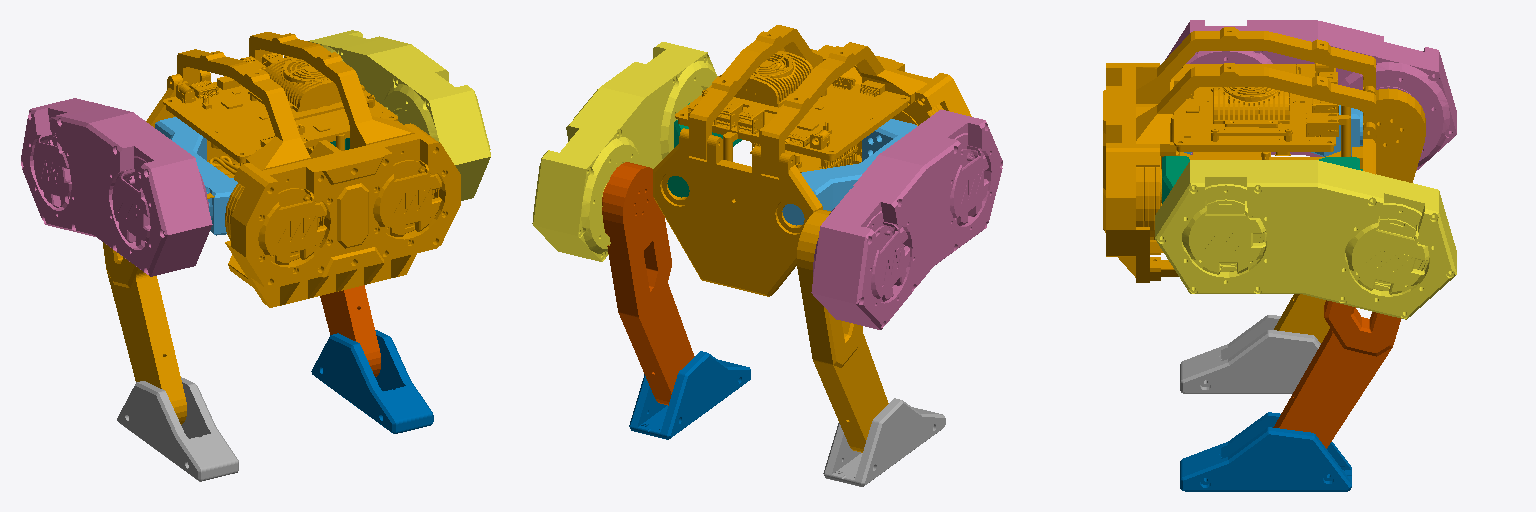
--- Render facts (derived) ---
3 views of the same robot in one strip: view 1: azimuth 30°, elevation 25°; view 2: azimuth 150°, elevation 25°; view 3: azimuth 270°, elevation 25° (orthographic).
Model bernard with 9 links and 8 joints (8 revolute), rooted at body, posed every joint at zero.
Visible links, largest first — view 1: body, r_arm, l_arm, l_foot, r_foot, r_forearm, l_forearm, r_hip; view 2: body, r_arm, l_arm, l_forearm, r_forearm, r_foot, l_foot, r_hip, l_hip; view 3: l_arm, body, r_arm, l_foot, l_forearm, r_foot, r_forearm, l_hip, r_hip.
Boxes of the visible links, x1,y1,x2,y2 form: body: (146,32,460,307); r_arm: (21,98,212,276); l_arm: (308,30,490,200); l_foot: (311,330,433,433); r_foot: (117,377,238,481); r_forearm: (103,242,186,424); l_forearm: (320,285,380,376); r_hip: (155,117,237,235); body: (653,25,971,296); r_arm: (811,109,1002,329); l_arm: (532,42,717,261); l_forearm: (602,162,694,405); r_forearm: (796,210,888,452); r_foot: (823,398,945,486); l_foot: (629,351,750,439); r_hip: (782,119,916,225); l_hip: (667,103,741,197); l_arm: (1155,160,1456,319); body: (1103,27,1375,282); r_arm: (1165,20,1456,170); l_foot: (1180,412,1351,491); l_forearm: (1273,300,1400,448); r_foot: (1180,315,1320,393); r_forearm: (1274,88,1425,342); l_hip: (1162,156,1362,203); r_hip: (1184,105,1362,156).
Size in the robot's own frame: 0.2865 by 0.2591 by 0.3098 metres.
126 mesh visuals loaded from 107 distinct referenced files (106 OBJ); not drawn: 1 (reference not matched to a file when rendering).

The robot description file, URDF, robot "bernard":
<?xml version="1.0" encoding="UTF-8"?>
<robot name="bernard">
  <joint name="l_arm_joint" type="revolute">
    <origin xyz="0.052 -0. -0.0466032" rpy="-3.1415927 -1.5707963 0. "/>
    <parent link="l_hip"/>
    <child link="l_arm"/>
    <axis xyz="0. 0. 1."/>
    <limit lower="-1.5707963" upper="1.5707963" effort="0." velocity="0."/>
  </joint>
  <joint name="l_foot_joint" type="revolute">
    <origin xyz="0.02 0.19 -0.0065" rpy="3.1415927 0. 1.8325957"/>
    <parent link="l_forearm"/>
    <child link="l_foot"/>
    <axis xyz="0. 0. 1."/>
    <limit lower="-1.2217305" upper="1.2217305" effort="0." velocity="0."/>
  </joint>
  <joint name="l_hip_joint" type="revolute">
    <origin xyz="0.0530836 -0.0463685 0.0004409" rpy="1.5707964 0. 0. "/>
    <parent link="body"/>
    <child link="l_hip"/>
    <axis xyz="0. 0. 1."/>
    <limit lower="-0.4363323" upper="0.5235988" effort="0." velocity="0."/>
  </joint>
  <joint name="l_knee_joint" type="revolute">
    <origin xyz="-0.119007 0.0154056 -0. " rpy="-0. 0. -0.2617994"/>
    <parent link="l_arm"/>
    <child link="l_forearm"/>
    <axis xyz="0. 0. 1."/>
    <limit lower="-0.8726646" upper="1.7453293" effort="0." velocity="0."/>
  </joint>
  <joint name="r_arm_joint" type="revolute">
    <origin xyz="0.052 -0. 0.0466032" rpy="-3.1415927 1.5707964 0. "/>
    <parent link="r_hip"/>
    <child link="r_arm"/>
    <axis xyz="0. 0. 1."/>
    <limit lower="-1.5707963" upper="1.5707963" effort="0." velocity="0."/>
  </joint>
  <joint name="r_foot_joint" type="revolute">
    <origin xyz="0.02 0.19 0.0065" rpy="3.1415927 0. 1.8325957"/>
    <parent link="r_forearm"/>
    <child link="r_foot"/>
    <axis xyz="0. 0. 1."/>
    <limit lower="-1.2217305" upper="1.2217305" effort="0." velocity="0."/>
  </joint>
  <joint name="r_hip_joint" type="revolute">
    <origin xyz="-0.0469164 -0.0463544 0.0004409" rpy="1.5707964 -0. -3.1415927"/>
    <parent link="body"/>
    <child link="r_hip"/>
    <axis xyz="0. 0. 1."/>
    <limit lower="-0.4363323" upper="0.5235988" effort="0." velocity="0."/>
  </joint>
  <joint name="r_knee_joint" type="revolute">
    <origin xyz="-0.119007 0.0154056 0. " rpy="-0. 0. -0.2617994"/>
    <parent link="r_arm"/>
    <child link="r_forearm"/>
    <axis xyz="0. 0. 1."/>
    <limit lower="-0.8726646" upper="1.7453293" effort="0." velocity="0."/>
  </joint>
  <link name="body">
    <inertial>
      <origin xyz="0.00478695 -0.00867622 -0.00853418 m" rpy="0. 0. 0."/>
      <mass value="1.94701706"/>
      <inertia ixx="0.00886295" ixy="-0.00009625" ixz="-0.00021054" iyy="0.00554807" iyz="0.00037748" izz="0.00908693"/>
    </inertial>
    <collision>
      <origin xyz="0.00056 0.0104835 -0.011461 " rpy="0. 0. 0."/>
      <geometry>
        <box size="0.1160978 0.2033129 0.13758 "/>
      </geometry>
    </collision>
    <visual>
      <origin xyz="0.0530836 0.1076355 -0.001559 " rpy="0. -0. -3.1415927"/>
      <geometry>
        <mesh filename="meshes/bearing32x7/bearing_20x32x7mm__0x32x7mm_Bearing_Cover__0x32x7mm_Bearing_Cover.obj" scale="1. 1. 1."/>
      </geometry>
    </visual>
    <visual>
      <origin xyz="0.0530836 0.1076355 -0.001559 " rpy="0. -0. -3.1415927"/>
      <geometry>
        <mesh filename="meshes/bearing32x7/bearing_20x32x7mm__0x32x7mm_Bearing_Outer__0x32x7mm_Bearing_Outer.obj" scale="1. 1. 1."/>
      </geometry>
    </visual>
    <visual>
      <origin xyz="0.0530836 0.1076355 -0.001559 " rpy="0. -0. -3.1415927"/>
      <geometry>
        <mesh filename="meshes/bearing32x7/bearing_20x32x7mm__0x32x7mm_Bearing_Inner__0x32x7mm_Bearing_Inner.obj" scale="1. 1. 1."/>
      </geometry>
    </visual>
    <visual>
      <origin xyz="0.0399871 -0.0653645 -0.0036212" rpy="3.1415927 -0. -3.1415927"/>
      <geometry>
        <mesh filename="meshes/printed_body_parts_Top_Frame_L_Top_Frame_L.obj" scale="1. 1. 1."/>
      </geometry>
    </visual>
    <visual>
      <origin xyz="-0.0469164 -0.0753645 -0.001559 " rpy="1.5707964 0. -1.5707964"/>
      <geometry>
        <mesh filename="meshes/printed_body_parts_Hip_Cover_Hip_Cover.obj" scale="1. 1. 1."/>
      </geometry>
    </visual>
    <visual>
      <origin xyz="0.0030921 0.0213355 -0.0035671" rpy="1.5707964 0. 0. "/>
      <geometry>
        <mesh filename="meshes/printed_body_parts_Frame_Core_Frame_Core.obj" scale="1. 1. 1."/>
      </geometry>
    </visual>
    <visual>
      <origin xyz="0.0030751 0.0226436 -0.0662086" rpy="3.1415927 -0. -3.1415927"/>
      <geometry>
        <mesh filename="meshes/printed_body_parts_Body_Bottom_Frame_Body_Bottom_Frame.obj" scale="1. 1. 1."/>
      </geometry>
    </visual>
    <visual>
      <origin xyz="0.0030836 -0.0653645 -0.0075599" rpy="3.1415927 -0. -3.1415927"/>
      <geometry>
        <mesh filename="meshes/printed_body_parts_Core_Frame_Holder_Core_Frame_Holder.obj" scale="1. 1. 1."/>
      </geometry>
    </visual>
    <visual>
      <origin xyz="-0.0469164 0.1076355 -0.001559 " rpy="0. -0. -3.1415927"/>
      <geometry>
        <mesh filename="meshes/bearing32x7/bearing_20x32x7mm_01__0x32x7mm_Bearing_Cover__0x32x7mm_Bearing_Cover.obj" scale="1. 1. 1."/>
      </geometry>
    </visual>
    <visual>
      <origin xyz="-0.0469164 0.1076355 -0.001559 " rpy="0. -0. -3.1415927"/>
      <geometry>
        <mesh filename="meshes/bearing32x7/bearing_20x32x7mm_01__0x32x7mm_Bearing_Outer__0x32x7mm_Bearing_Outer.obj" scale="1. 1. 1."/>
      </geometry>
    </visual>
    <visual>
      <origin xyz="-0.0469164 0.1076355 -0.001559 " rpy="0. -0. -3.1415927"/>
      <geometry>
        <mesh filename="meshes/bearing32x7/bearing_20x32x7mm_01__0x32x7mm_Bearing_Inner__0x32x7mm_Bearing_Inner.obj" scale="1. 1. 1."/>
      </geometry>
    </visual>
    <visual>
      <origin xyz="0.0030921 0.1002355 -0.0011171" rpy="1.5707964 0. -1.5707964"/>
      <geometry>
        <mesh filename="meshes/printed_body_parts_Body_Back_Body_Back.obj" scale="1. 1. 1."/>
      </geometry>
    </visual>
    <visual>
      <origin xyz="0.0030836 -0.0553645 -0.0597501" rpy="1.5707964 -0. -3.1415927"/>
      <geometry>
        <mesh filename="meshes/printed_body_parts_Body_Bottom_Body_Bottom.obj" scale="1. 1. 1."/>
      </geometry>
    </visual>
    <visual>
      <origin xyz="-0.0149248 -0.0368453 -0.0035671" rpy="1.5707964 0. -1.5707964"/>
      <geometry>
        <mesh filename="meshes/printed_body_parts_FPGA_Holder_FPGA_Holder.obj" scale="1. 1. 1."/>
      </geometry>
    </visual>
    <visual>
      <origin xyz="-0.0338198 -0.0653645 -0.0036212" rpy="0. 0. 0.0000001"/>
      <geometry>
        <mesh filename="meshes/printed_body_parts_Top_Frame_R_Top_Frame_R.obj" scale="1. 1. 1."/>
      </geometry>
    </visual>
    <visual>
      <origin xyz="0.0030336 0.0376355 -0.0445591" rpy="3.1415927 0. -1.5707964"/>
      <geometry>
        <mesh filename="meshes/tattu_4500/tattu_4500_mah_XT90_XT90.obj" scale="1. 1. 1."/>
      </geometry>
    </visual>
    <visual>
      <origin xyz="0.0030336 0.0376355 -0.0445591" rpy="3.1415927 0. -1.5707964"/>
      <geometry>
        <mesh filename="meshes/tattu_4500/tattu_4500_mah_XT90pos_cable_XT90pos_cable.obj" scale="1. 1. 1."/>
      </geometry>
    </visual>
    <visual>
      <origin xyz="0.0030336 0.0376355 -0.0445591" rpy="3.1415927 0. -1.5707964"/>
      <geometry>
        <mesh filename="meshes/tattu_4500/tattu_4500_mah_JST_XHP_4_cable4_JST_XHP_4_cable4.obj" scale="1. 1. 1."/>
      </geometry>
    </visual>
    <visual>
      <origin xyz="0.0030336 0.0376355 -0.0445591" rpy="3.1415927 0. -1.5707964"/>
      <geometry>
        <mesh filename="meshes/tattu_4500/tattu_4500_mah_JST_XHP_4_cable5_JST_XHP_4_cable5.obj" scale="1. 1. 1."/>
      </geometry>
    </visual>
    <visual>
      <origin xyz="0.0030336 0.0376355 -0.0445591" rpy="3.1415927 0. -1.5707964"/>
      <geometry>
        <mesh filename="meshes/tattu_4500/tattu_4500_mah_JST_XHP_4_cable3_JST_XHP_4_cable3.obj" scale="1. 1. 1."/>
      </geometry>
    </visual>
    <visual>
      <origin xyz="0.0030336 0.0376355 -0.0445591" rpy="3.1415927 0. -1.5707964"/>
      <geometry>
        <mesh filename="meshes/tattu_4500/tattu_4500_mah_JST_XHP_4_JST_XHP_4.obj" scale="1. 1. 1."/>
      </geometry>
    </visual>
    <visual>
      <origin xyz="0.0030336 0.0376355 -0.0445591" rpy="3.1415927 0. -1.5707964"/>
      <geometry>
        <mesh filename="meshes/tattu_4500/tattu_4500_mah_JST_XHP_4_cable1_JST_XHP_4_cable1.obj" scale="1. 1. 1."/>
      </geometry>
    </visual>
    <visual>
      <origin xyz="0.0030336 0.0376355 -0.0445591" rpy="3.1415927 0. -1.5707964"/>
      <geometry>
        <mesh filename="meshes/tattu_4500/tattu_4500_mah_XT90neg_cable_XT90neg_cable.obj" scale="1. 1. 1."/>
      </geometry>
    </visual>
    <visual>
      <origin xyz="0.0030336 0.0376355 -0.0445591" rpy="3.1415927 0. -1.5707964"/>
      <geometry>
        <mesh filename="meshes/tattu_4500/tattu_4500_mah_JST_XHP_4_cable2_JST_XHP_4_cable2.obj" scale="1. 1. 1."/>
      </geometry>
    </visual>
    <visual>
      <origin xyz="0.0030336 0.0376355 -0.0445591" rpy="3.1415927 0. -1.5707964"/>
      <geometry>
        <mesh filename="meshes/tattu_4500/tattu_4500_mah_Battery_Battery.obj" scale="1. 1. 1."/>
      </geometry>
    </visual>
    <visual>
      <origin xyz="0.0140406 -0.0302645 0.0039037" rpy="0. 0. 0.0000001"/>
      <geometry>
        <mesh filename="meshes/nucleo_l476rg/nucleo_l476rg_ESWITCH_TL3301SPF160QGBLK_Varsay_ESWITCH_TL3301SPF160QGBLK_Varsay.obj" scale="1. 1. 1."/>
      </geometry>
    </visual>
    <visual>
      <origin xyz="0.0140406 -0.0302645 0.0039037" rpy="0. 0. 0.0000001"/>
      <geometry>
        <mesh filename="meshes/nucleo_l476rg/nucleo_l476rg_ESWITCH_TL3301SPF160QGBLU_Varsay_ESWITCH_TL3301SPF160QGBLU_Varsay.obj" scale="1. 1. 1."/>
      </geometry>
    </visual>
    <visual>
      <origin xyz="0.0140406 -0.0302645 0.0039037" rpy="0. 0. 0.0000001"/>
      <geometry>
        <mesh filename="meshes/nucleo_l476rg/nucleo_l476rg_MOLEX_0678038020_for_NUCLEO_MOLEX_0678038020_for_NUCLEO.obj" scale="1. 1. 1."/>
      </geometry>
    </visual>
    <visual>
      <origin xyz="0.0140406 -0.0302645 0.0039037" rpy="0. 0. 0.0000001"/>
      <geometry>
        <mesh filename="meshes/nucleo_l476rg/nucleo_l476rg_SAMTEC_SSQ_106_01_G_S_for_NUCLEO_Varsay_SAMTEC_SSQ_106_01_G_S_for_NUCLEO_Varsay.obj" scale="1. 1. 1."/>
      </geometry>
    </visual>
    <visual>
      <origin xyz="0.0140406 -0.0302645 0.0039037" rpy="0. 0. 0.0000001"/>
      <geometry>
        <mesh filename="meshes/nucleo_l476rg/nucleo_l476rg_SAMTEC_TSW_119_07_T_D_for_NUCLEO_Varsay_1_SAMTEC_TSW_119_07_T_D_for_NUCLEO_Varsay_1.obj" scale="1. 1. 1."/>
      </geometry>
    </visual>
    <visual>
      <origin xyz="0.0140406 -0.0302645 0.0039037" rpy="0. 0. 0.0000001"/>
      <geometry>
        <mesh filename="meshes/nucleo_l476rg/nucleo_l476rg_SAMTEC_TSW_119_07_T_D_for_NUCLEO_Varsay_SAMTEC_TSW_119_07_T_D_for_NUCLEO_Varsay.obj" scale="1. 1. 1."/>
      </geometry>
    </visual>
    <visual>
      <origin xyz="0.0140406 -0.0302645 0.0039037" rpy="0. 0. 0.0000001"/>
      <geometry>
        <mesh filename="meshes/nucleo_l476rg/nucleo_l476rg_ABRACON_ABL_8000MHZ_B2_Varsay_ABRACON_ABL_8000MHZ_B2_Varsay.obj" scale="1. 1. 1."/>
      </geometry>
    </visual>
    <visual>
      <origin xyz="0.0140406 -0.0302645 0.0039037" rpy="0. 0. 0.0000001"/>
      <geometry>
        <mesh filename="meshes/nucleo_l476rg/nucleo_l476rg_SAMTEC_SSQ_108_01_G_S_for_NUCLEO_Varsay_SAMTEC_SSQ_108_01_G_S_for_NUCLEO_Varsay.obj" scale="1. 1. 1."/>
      </geometry>
    </visual>
    <visual>
      <origin xyz="0.0140406 -0.0302645 0.0039037" rpy="0. 0. 0.0000001"/>
      <geometry>
        <mesh filename="meshes/nucleo_l476rg/nucleo_l476rg_SAMTEC_SSQ_110_01_G_S_for_NUCLEO_Varsay_SAMTEC_SSQ_110_01_G_S_for_NUCLEO_Varsay.obj" scale="1. 1. 1."/>
      </geometry>
    </visual>
    <visual>
      <origin xyz="0.0140406 -0.0302645 0.0039037" rpy="0. 0. 0.0000001"/>
      <geometry>
        <mesh filename="meshes/ESWITCH_TL3301SPF160QGBLU_Varsay_01_ESWITCH_TL3301SPF160QGBLU_Varsay.obj" scale="1. 1. 1."/>
      </geometry>
    </visual>
    <visual>
      <origin xyz="0.0140406 -0.0302645 0.0039037" rpy="0. 0. 0.0000001"/>
      <geometry>
        <mesh filename="meshes/nucleo_l476rg/nucleo_l476rg_SAMTEC_SSQ_108_01_G_S_for_NUCLEO_Varsay_1_SAMTEC_SSQ_108_01_G_S_for_NUCLEO_Varsay_1.obj" scale="1. 1. 1."/>
      </geometry>
    </visual>
    <visual>
      <origin xyz="0.0140406 -0.0302645 0.0039037" rpy="0. 0. 0.0000001"/>
      <geometry>
        <mesh filename="meshes/nucleo_l476rg/nucleo_l476rg_NUCLEO_F411RE_PCB_Varsay_NUCLEO_F411RE_PCB_Varsay.obj" scale="1. 1. 1."/>
      </geometry>
    </visual>
    <visual>
      <origin xyz="0.0140406 -0.0302645 0.0039037" rpy="0. 0. 0.0000001"/>
      <geometry>
        <mesh filename="meshes/kria_kv260/MOLEX_0678038020_for_NUCLEO_01_MOLEX_0678038020_for_NUCLEO.obj" scale="1. 1. 1."/>
      </geometry>
    </visual>
    <visual>
      <origin xyz="0.0140406 -0.0302645 0.0039037" rpy="0. 0. 0.0000001"/>
      <geometry>
        <mesh filename="meshes/ESWITCH_TL3301SPF160QGBLK_Varsay_01_ESWITCH_TL3301SPF160QGBLK_Varsay.obj" scale="1. 1. 1."/>
      </geometry>
    </visual>
    <visual>
      <origin xyz="-0.0619263 -0.0378455 0.0480186" rpy="1.5707964 0. 0. "/>
      <geometry>
        <mesh filename="meshes/kria_kv260/kria_kv_260_SOM_BOARD_OUTLINE_SOM_BOARD_OUTLINE.obj" scale="1. 1. 1."/>
      </geometry>
    </visual>
    <visual>
      <origin xyz="-0.0619263 -0.0378455 0.0480186" rpy="1.5707964 0. 0. "/>
      <geometry>
        <mesh filename="meshes/kria_kv260/kria_kv_260_PC104_SN_XX_XX_7_SOLID1_2_PC104_SN_XX_XX_7_SOLID1_2.obj" scale="1. 1. 1."/>
      </geometry>
    </visual>
    <visual>
      <origin xyz="-0.0619263 -0.0378455 0.0480186" rpy="1.5707964 0. 0. "/>
      <geometry>
        <mesh filename="meshes/kria_kv260/kria_kv_260_CHIP_18536_1_CHIP_18536_1.obj" scale="1. 1. 1."/>
      </geometry>
    </visual>
    <visual>
      <origin xyz="-0.0619263 -0.0378455 0.0480186" rpy="1.5707964 0. 0. "/>
      <geometry>
        <mesh filename="meshes/kria_kv260/kria_kv_260_GSB311231HR_4_1_GSB311231HR_4_1.obj" scale="1. 1. 1."/>
      </geometry>
    </visual>
    <visual>
      <origin xyz="-0.0619263 -0.0378455 0.0480186" rpy="1.5707964 0. 0. "/>
      <geometry>
        <mesh filename="meshes/kria_kv260/kria_kv_260_JSOM_T_XX_XX_XX_1_SOLID1_1_JSOM_T_XX_XX_XX_1_SOLID1_1.obj" scale="1. 1. 1."/>
      </geometry>
    </visual>
    <visual>
      <origin xyz="-0.0619263 -0.0378455 0.0480186" rpy="1.5707964 0. 0. "/>
      <geometry>
        <mesh filename="meshes/kria_kv260/kria_kv_260_PC104_SN_XX_XX_7_SOLID1_PC104_SN_XX_XX_7_SOLID1.obj" scale="1. 1. 1."/>
      </geometry>
    </visual>
    <visual>
      <origin xyz="-0.0619263 -0.0378455 0.0480186" rpy="1.5707964 0. 0. "/>
      <geometry>
        <mesh filename="meshes/kria_kv260/kria_kv_260_HDR_F2X6_2_5_2_1_1_1_HDR_F2X6_2_5_2_1_1_1.obj" scale="1. 1. 1."/>
      </geometry>
    </visual>
    <visual>
      <origin xyz="-0.0619263 -0.0378455 0.0480186" rpy="1.5707964 0. 0. "/>
      <geometry>
        <mesh filename="meshes/kria_kv260/kria_kv_260_HDR_F2X6_2_4_2_1_1_1_HDR_F2X6_2_4_2_1_1_1.obj" scale="1. 1. 1."/>
      </geometry>
    </visual>
    <visual>
      <origin xyz="-0.0619263 -0.0378455 0.0480186" rpy="1.5707964 0. 0. "/>
      <geometry>
        <mesh filename="meshes/kria_kv260/kria_kv_260_GSB311231HR_1_GSB311231HR_1.obj" scale="1. 1. 1."/>
      </geometry>
    </visual>
    <visual>
      <origin xyz="-0.0619263 -0.0378455 0.0480186" rpy="1.5707964 0. 0. "/>
      <geometry>
        <mesh filename="meshes/kria_kv260/kria_kv_260__010_IMPELLER__010_IMPELLER.obj" scale="1. 1. 1."/>
      </geometry>
    </visual>
    <visual>
      <origin xyz="-0.0619263 -0.0378455 0.0480186" rpy="1.5707964 0. 0. "/>
      <geometry>
        <mesh filename="meshes/kria_kv260/kria_kv_260_GSB311231HR_4_GSB311231HR_4.obj" scale="1. 1. 1."/>
      </geometry>
    </visual>
    <visual>
      <origin xyz="-0.0619263 -0.0378455 0.0480186" rpy="1.5707964 0. 0. "/>
      <geometry>
        <mesh filename="meshes/kria_kv260/kria_kv_260_JSOM_T_XX_XX_XX_1_SOLID1_2_JSOM_T_XX_XX_XX_1_SOLID1_2.obj" scale="1. 1. 1."/>
      </geometry>
    </visual>
    <visual>
      <origin xyz="-0.0619263 -0.0378455 0.0480186" rpy="1.5707964 0. 0. "/>
      <geometry>
        <mesh filename="meshes/kria_kv260/kria_kv_260_HDR_F2X6_2_7_2_1_1_1_HDR_F2X6_2_7_2_1_1_1.obj" scale="1. 1. 1."/>
      </geometry>
    </visual>
    <visual>
      <origin xyz="-0.0619263 -0.0378455 0.0480186" rpy="1.5707964 0. 0. "/>
      <geometry>
        <mesh filename="meshes/kria_kv260/kria_kv_260_HDR_F2X6_2_12_2_1_1_1_HDR_F2X6_2_12_2_1_1_1.obj" scale="1. 1. 1."/>
      </geometry>
    </visual>
    <visual>
      <origin xyz="-0.0619263 -0.0378455 0.0480186" rpy="1.5707964 0. 0. "/>
      <geometry>
        <mesh filename="meshes/kria_kv260/kria_kv_260_JSOM_B_XX_XX_XX_1_SOLID1_1_JSOM_B_XX_XX_XX_1_SOLID1_1.obj" scale="1. 1. 1."/>
      </geometry>
    </visual>
    <visual>
      <origin xyz="-0.0619263 -0.0378455 0.0480186" rpy="1.5707964 0. 0. "/>
      <geometry>
        <mesh filename="meshes/kria_kv260/kria_kv_260_HDR_F2X6_2_9_2_1_1_1_HDR_F2X6_2_9_2_1_1_1.obj" scale="1. 1. 1."/>
      </geometry>
    </visual>
    <visual>
      <origin xyz="-0.0619263 -0.0378455 0.0480186" rpy="1.5707964 0. 0. "/>
      <geometry>
        <mesh filename="meshes/kria_kv260/kria_kv_260_CONN_STW_SS_53000_001_CONN_STW_SS_53000_001.obj" scale="1. 1. 1."/>
      </geometry>
    </visual>
    <visual>
      <origin xyz="-0.0619263 -0.0378455 0.0480186" rpy="1.5707964 0. 0. "/>
      <geometry>
        <mesh filename="meshes/kria_kv260/kria_kv_260_P1_P1.obj" scale="1. 1. 1."/>
      </geometry>
    </visual>
    <visual>
      <origin xyz="-0.0619263 -0.0378455 0.0480186" rpy="1.5707964 0. 0. "/>
      <geometry>
        <mesh filename="meshes/kria_kv260/kria_kv_260_CARRIER_BOARD_OUTLINE_CARRIER_BOARD_OUTLINE.obj" scale="1. 1. 1."/>
      </geometry>
    </visual>
    <visual>
      <origin xyz="-0.0619263 -0.0378455 0.0480186" rpy="1.5707964 0. 0. "/>
      <geometry>
        <mesh filename="meshes/kria_kv260/kria_kv_260_HDR_F2X6_2_2_2_1_1_1_HDR_F2X6_2_2_2_1_1_1.obj" scale="1. 1. 1."/>
      </geometry>
    </visual>
    <visual>
      <origin xyz="-0.0619263 -0.0378455 0.0480186" rpy="1.5707964 0. 0. "/>
      <geometry>
        <mesh filename="meshes/kria_kv260/kria_kv_260_JSOM_B_XX_XX_XX_1_SOLID1_2_JSOM_B_XX_XX_XX_1_SOLID1_2.obj" scale="1. 1. 1."/>
      </geometry>
    </visual>
    <visual>
      <origin xyz="-0.0619263 -0.0378455 0.0480186" rpy="1.5707964 0. 0. "/>
      <geometry>
        <mesh filename="meshes/kria_kv260/kria_kv_260_JSOM_T_XX_XX_XX_1_SOLID1_3_JSOM_T_XX_XX_XX_1_SOLID1_3.obj" scale="1. 1. 1."/>
      </geometry>
    </visual>
    <visual>
      <origin xyz="-0.0619263 -0.0378455 0.0480186" rpy="1.5707964 0. 0. "/>
      <geometry>
        <mesh filename="meshes/kria_kv260/kria_kv_260_HDR_F2X6_2_1_2_1_1_1_HDR_F2X6_2_1_2_1_1_1.obj" scale="1. 1. 1."/>
      </geometry>
    </visual>
    <visual>
      <origin xyz="-0.0619263 -0.0378455 0.0480186" rpy="1.5707964 0. 0. "/>
      <geometry>
        <mesh filename="meshes/kria_kv260/kria_kv_260_USER_LIBRARY_LQFP64_GRID_463338_USER_LIBRARY_LQFP64_GRID_463338.obj" scale="1. 1. 1."/>
      </geometry>
    </visual>
    <visual>
      <origin xyz="-0.0619263 -0.0378455 0.0480186" rpy="1.5707964 0. 0. "/>
      <geometry>
        <mesh filename="meshes/kria_kv260/kria_kv_260_JSOM_B_XX_XX_XX_1_SOLID1_3_JSOM_B_XX_XX_XX_1_SOLID1_3.obj" scale="1. 1. 1."/>
      </geometry>
    </visual>
    <visual>
      <origin xyz="-0.0619263 -0.0378455 0.0480186" rpy="1.5707964 0. 0. "/>
      <geometry>
        <mesh filename="meshes/kria_kv260/kria_kv_260_HDR_F2X6_2_10_2_1_1_1_HDR_F2X6_2_10_2_1_1_1.obj" scale="1. 1. 1."/>
      </geometry>
    </visual>
    <visual>
      <origin xyz="-0.0619263 -0.0378455 0.0480186" rpy="1.5707964 0. 0. "/>
      <geometry>
        <mesh filename="meshes/kria_kv260/kria_kv_260_HDR_F2X6_2_6_2_1_1_1_HDR_F2X6_2_6_2_1_1_1.obj" scale="1. 1. 1."/>
      </geometry>
    </visual>
    <visual>
      <origin xyz="-0.0619263 -0.0378455 0.0480186" rpy="1.5707964 0. 0. "/>
      <geometry>
        <mesh filename="meshes/kria_kv260/kria_kv_260_GSB311231HR_1_1_GSB311231HR_1_1.obj" scale="1. 1. 1."/>
      </geometry>
    </visual>
    <visual>
      <origin xyz="-0.0619263 -0.0378455 0.0480186" rpy="1.5707964 0. 0. "/>
      <geometry>
        <mesh filename="meshes/kria_kv260/kria_kv_260__72720001_7__72720001_7.obj" scale="1. 1. 1."/>
      </geometry>
    </visual>
    <visual>
      <origin xyz="-0.0619263 -0.0378455 0.0480186" rpy="1.5707964 0. 0. "/>
      <geometry>
        <mesh filename="meshes/kria_kv260/kria_kv_260_SOIC127P600X175_8_SOIC127P600X175_8.obj" scale="1. 1. 1."/>
      </geometry>
    </visual>
    <visual>
      <origin xyz="-0.0619263 -0.0378455 0.0480186" rpy="1.5707964 0. 0. "/>
      <geometry>
        <mesh filename="meshes/kria_kv260/kria_kv_260_CHIP_18536_CHIP_18536.obj" scale="1. 1. 1."/>
      </geometry>
    </visual>
    <visual>
      <origin xyz="-0.0619263 -0.0378455 0.0480186" rpy="1.5707964 0. 0. "/>
      <geometry>
        <mesh filename="meshes/kria_kv260/kria_kv_260__78321420_1__78321420_1.obj" scale="1. 1. 1."/>
      </geometry>
    </visual>
    <visual>
      <origin xyz="-0.0619263 -0.0378455 0.0480186" rpy="1.5707964 0. 0. "/>
      <geometry>
        <mesh filename="meshes/kria_kv260/kria_kv_260_BODY_QFN_114_BODY_QFN_114.obj" scale="1. 1. 1."/>
      </geometry>
    </visual>
    <visual>
      <origin xyz="-0.0619263 -0.0378455 0.0480186" rpy="1.5707964 0. 0. "/>
      <geometry>
        <mesh filename="meshes/kria_kv260/kria_kv_260_GSB311231HR_ASM_GSB311231HR_ASM.obj" scale="1. 1. 1."/>
      </geometry>
    </visual>
    <visual>
      <origin xyz="-0.0619263 -0.0378455 0.0480186" rpy="1.5707964 0. 0. "/>
      <geometry>
        <mesh filename="meshes/kria_kv260/kria_kv_260_PC104_SN_XX_XX_7_SOLID1_1_PC104_SN_XX_XX_7_SOLID1_1.obj" scale="1. 1. 1."/>
      </geometry>
    </visual>
    <visual>
      <origin xyz="-0.0619263 -0.0378455 0.0480186" rpy="1.5707964 0. 0. "/>
      <geometry>
        <mesh filename="meshes/kria_kv260/kria_kv_260_L829_1J1T_43_1_3_2_1_1_1_L829_1J1T_43_1_3_2_1_1_1.obj" scale="1. 1. 1."/>
      </geometry>
    </visual>
    <visual>
      <origin xyz="-0.0619263 -0.0378455 0.0480186" rpy="1.5707964 0. 0. "/>
      <geometry>
        <mesh filename="meshes/kria_kv260/kria_kv_260_JSOM_B_XX_XX_XX_1_SOLID1_JSOM_B_XX_XX_XX_1_SOLID1.obj" scale="1. 1. 1."/>
      </geometry>
    </visual>
    <visual>
      <origin xyz="-0.0619263 -0.0378455 0.0480186" rpy="1.5707964 0. 0. "/>
      <geometry>
        <mesh filename="meshes/kria_kv260/kria_kv_260_PC104_SN_XX_XX_7_SOLID1_3_PC104_SN_XX_XX_7_SOLID1_3.obj" scale="1. 1. 1."/>
      </geometry>
    </visual>
    <visual>
      <origin xyz="-0.0619263 -0.0378455 0.0480186" rpy="1.5707964 0. 0. "/>
      <geometry>
        <mesh filename="meshes/kria_kv260/kria_kv_260_HEATSINK_HEATSINK.obj" scale="1. 1. 1."/>
      </geometry>
    </visual>
    <visual>
      <origin xyz="-0.0619263 -0.0378455 0.0480186" rpy="1.5707964 0. 0. "/>
      <geometry>
        <mesh filename="meshes/kria_kv260/kria_kv_260_HDR_F2X6_2_3_2_1_1_1_HDR_F2X6_2_3_2_1_1_1.obj" scale="1. 1. 1."/>
      </geometry>
    </visual>
    <visual>
      <origin xyz="-0.0619263 -0.0378455 0.0480186" rpy="1.5707964 0. 0. "/>
      <geometry>
        <mesh filename="meshes/kria_kv260/kria_kv_260_HDR_F2X6_2_13_2_1_1_1_HDR_F2X6_2_13_2_1_1_1.obj" scale="1. 1. 1."/>
      </geometry>
    </visual>
    <visual>
      <origin xyz="-0.0619263 -0.0378455 0.0480186" rpy="1.5707964 0. 0. "/>
      <geometry>
        <mesh filename="meshes/kria_kv260/kria_kv_260__22112022_1__22112022_1.obj" scale="1. 1. 1."/>
      </geometry>
    </visual>
    <visual>
      <origin xyz="-0.0619263 -0.0378455 0.0480186" rpy="1.5707964 0. 0. "/>
      <geometry>
        <mesh filename="meshes/kria_kv260/kria_kv_260_L829_1J1T_43_1_ASM_2_ASM_1_ASM__ASM_L829_1J1T_43_1_ASM_2_ASM_1_ASM__ASM.obj" scale="1. 1. 1."/>
      </geometry>
    </visual>
    <visual>
      <origin xyz="-0.0619263 -0.0378455 0.0480186" rpy="1.5707964 0. 0. "/>
      <geometry>
        <mesh filename="meshes/kria_kv260/kria_kv_260_HDR_F2X6_2_11_2_1_1_1_HDR_F2X6_2_11_2_1_1_1.obj" scale="1. 1. 1."/>
      </geometry>
    </visual>
    <visual>
      <origin xyz="-0.0619263 -0.0378455 0.0480186" rpy="1.5707964 0. 0. "/>
      <geometry>
        <mesh filename="meshes/kria_kv260/kria_kv_260_BGA172C80P14X14_1215X1215X170_BGA172C80P14X14_1215X1215X170.obj" scale="1. 1. 1."/>
      </geometry>
    </visual>
    <visual>
      <origin xyz="-0.1290878 -0.0754375 0.0211027" rpy="1.5707964 0. 0. "/>
      <geometry>
        <mesh filename="meshes/kria_kv260/kria_kv_260_BGA120C50X50P12X12_660X660X80_BGA120C50X50P12X12_660X660X80.obj" scale="1. 1. 1."/>
      </geometry>
    </visual>
    <visual>
      <origin xyz="-0.0619263 -0.0378455 0.0480186" rpy="1.5707964 0. 0. "/>
      <geometry>
        <mesh filename="meshes/kria_kv260/kria_kv_260_HDR_F2X6_2_8_2_1_1_1_HDR_F2X6_2_8_2_1_1_1.obj" scale="1. 1. 1."/>
      </geometry>
    </visual>
    <visual>
      <origin xyz="-0.0619263 -0.0378455 0.0480186" rpy="1.5707964 0. 0. "/>
      <geometry>
        <mesh filename="meshes/kria_kv260/GSB311231HR_ASM_01_GSB311231HR_ASM.obj" scale="1. 1. 1."/>
      </geometry>
    </visual>
    <visual>
      <origin xyz="-0.0619263 -0.0378455 0.0480186" rpy="1.5707964 0. 0. "/>
      <geometry>
        <mesh filename="meshes/kria_kv260/kria_kv_260_FANCOVER_FANCOVER.obj" scale="1. 1. 1."/>
      </geometry>
    </visual>
    <visual>
      <origin xyz="-0.0619263 -0.0378455 0.0480186" rpy="1.5707964 0. 0. "/>
      <geometry>
        <mesh filename="meshes/kria_kv260/kria_kv_260_JSOM_T_XX_XX_XX_1_SOLID1_JSOM_T_XX_XX_XX_1_SOLID1.obj" scale="1. 1. 1."/>
      </geometry>
    </visual>
    <visual>
      <origin xyz="-0.0619263 -0.0378455 0.0480186" rpy="1.5707964 0. 0. "/>
      <geometry>
        <mesh filename="meshes/kria_kv260/kria_kv_260_COVER_COVER.obj" scale="1. 1. 1."/>
      </geometry>
    </visual>
    <visual>
      <origin xyz="-0.0619263 -0.0378455 0.0480186" rpy="1.5707964 0. 0. "/>
      <geometry>
        <mesh filename="meshes/kria_kv260/kria_kv_260_CUI_PJ_202AH_CUI_PJ_202AH.obj" scale="1. 1. 1."/>
      </geometry>
    </visual>
    <visual>
      <origin xyz="0.0530836 -0.0858685 0.0004409" rpy="3.1415927 0. -1.5707964"/>
      <geometry>
        <mesh filename="meshes/ak60_6/body_ak60_6.obj" scale="1. 1. 1."/>
      </geometry>
    </visual>
    <visual>
      <origin xyz="0.0530836 -0.0635145 -0.001559 " rpy="-1.5707964 -1.5707964 0. "/>
      <geometry>
        <mesh filename="meshes/ak60_6/cover_ak60_6.obj" scale="1. 1. 1."/>
      </geometry>
    </visual>
    <visual>
      <origin xyz="-0.0469164 -0.0858544 0.0004409" rpy="3.1415927 0. -1.5707964"/>
      <geometry>
        <mesh filename="meshes/ak60_6/body_ak60_6.obj" scale="1. 1. 1."/>
      </geometry>
    </visual>
    <visual>
      <origin xyz="-0.0469164 -0.0635145 -0.001559 " rpy="-1.5707964 -1.5707964 0. "/>
      <geometry>
        <mesh filename="meshes/ak60_6/cover_ak60_6.obj" scale="1. 1. 1."/>
      </geometry>
    </visual>
  </link>
  <link name="r_hip">
    <inertial>
      <origin xyz="-0.01698114 0. 0.06743173" rpy="0. 0. 0."/>
      <mass value="0.07053"/>
      <inertia ixx="0.00046884" ixy="0." ixz="0.00006465" iyy="0.00050078" iyz="0." izz="0.00004576"/>
    </inertial>
    <visual>
      <origin xyz="0. -0. 0." rpy="1.5707964 0. -1.5707964"/>
      <geometry>
        <mesh filename="meshes/hip_connector.obj" scale="1. 1. 1."/>
      </geometry>
    </visual>
  </link>
  <link name="l_hip">
    <inertial>
      <origin xyz="-0.01698114 0. -0.06743173" rpy="0. 0. 0."/>
      <mass value="0.07053"/>
      <inertia ixx="0.00046884" ixy="0." ixz="-0.00006465" iyy="0.00050078" iyz="0." izz="0.00004576"/>
    </inertial>
    <visual>
      <origin xyz="0. -0. -0." rpy="-1.5707964 0. 1.5707964"/>
      <geometry>
        <mesh filename="meshes/hip_connector.obj" scale="1. 1. 1."/>
      </geometry>
    </visual>
  </link>
  <link name="l_arm">
    <inertial>
      <origin xyz="-0.05958267 0.00731529 0.01658506" rpy="0. 0. 0."/>
      <mass value="0.82572217"/>
      <inertia ixx="0.00081593" ixy="0.00070611" ixz="0.00081583" iyy="0.00633455" iyz="-0.00010248" izz="0.00652132"/>
    </inertial>
    <collision>
      <origin xyz="-0.059147 0.0160712 0.01887 " rpy="1.293073 -1.5707964 0. "/>
      <geometry>
        <box size="0.0455878 0.1951695 0.0797575"/>
      </geometry>
    </collision>
    <visual>
      <origin xyz="0. 0. 0.0395" rpy="1.5707964 -1.5707964 0. "/>
      <geometry>
        <mesh filename="meshes/ak60_6/body_ak60_6.obj" scale="1. 1. 1."/>
      </geometry>
    </visual>
    <visual>
      <origin xyz="0. 0. 0.01715" rpy="3.1415927 0. -1.5707964"/>
      <geometry>
        <mesh filename="meshes/ak60_6/cover_ak60_6.obj" scale="1. 1. 1."/>
      </geometry>
    </visual>
    <visual>
      <origin xyz="0. 0. 0.041" rpy="-1.5707964 0. 0. "/>
      <geometry>
        <mesh filename="meshes/l_arm_L_Arm_Top_Cover_L_Arm_Top_Cover.obj" scale="1. 1. 1."/>
      </geometry>
    </visual>
    <visual>
      <origin xyz="-0.119007 0.0154056 0.0395 " rpy="1.3089969 -1.5707963 0. "/>
      <geometry>
        <mesh filename="meshes/ak60_6/body_ak60_6.obj" scale="1. 1. 1."/>
      </geometry>
    </visual>
    <visual>
      <origin xyz="-0.119007 0.0154056 0.01715 " rpy="3.1415927 0. -1.8325957"/>
      <geometry>
        <mesh filename="meshes/ak60_6/cover_ak60_6.obj" scale="1. 1. 1."/>
      </geometry>
    </visual>
    <visual>
      <origin xyz="-0.0000129 0. 0.021 " rpy="-1.5707964 0. 0. "/>
      <geometry>
        <mesh filename="meshes/l_arm_L_Arm_L_Arm.obj" scale="1. 1. 1."/>
      </geometry>
    </visual>
  </link>
  <link name="l_foot">
    <inertial>
      <origin xyz="0.01329791 0.02231079 0.01099755" rpy="0. 0. 0."/>
      <mass value="0.04745"/>
      <inertia ixx="0.0000866" ixy="-0.00001806" ixz="-0.00000696" iyy="0.00002911" iyz="-0.00001165" izz="0.00008895"/>
    </inertial>
    <collision>
      <origin xyz="0.0277056 0.0127352 0.01143 " rpy="-2.8192303 1.5707964 0. "/>
      <geometry>
        <box size="0.036 0.1227169 0.0099255"/>
      </geometry>
    </collision>
    <visual>
      <origin xyz="-0. 0.029 0.029" rpy="-3.1415927 1.5707963 0. "/>
      <geometry>
        <mesh filename="meshes/l_foot_Foot_New_1_Foot_New_1.obj" scale="1. 1. 1."/>
      </geometry>
    </visual>
    <visual>
      <origin xyz="0.029 -0. -0.007" rpy="1.5707964 -1.5707964 0. "/>
      <geometry>
        <mesh filename="meshes/l_foot_Foot_New_2_Foot_New_2.obj" scale="1. 1. 1."/>
      </geometry>
    </visual>
  </link>
  <link name="l_forearm">
    <inertial>
      <origin xyz="0.00798708 0.10925043 -0.01694463" rpy="0. 0. 0."/>
      <mass value="0.11351157"/>
      <inertia ixx="0.0020294" ixy="-0.00016888" ixz="0.00001588" iyy="0.00007282" iyz="0.00021613" izz="0.00202792"/>
    </inertial>
    <collision>
      <origin xyz="-0.0030734 0.0774761 -0.01793 " rpy="1.5765638 -1.5707963 0. "/>
      <geometry>
        <box size="0.0174227 0.0354954 0.186567 "/>
      </geometry>
    </collision>
    <visual>
      <origin xyz="0.02 0.19 -0.0065" rpy="-1.5707964 -0. 1.5707964"/>
      <geometry>
        <mesh filename="meshes/bearing28x8/forearm_bearing_12x28x8mm__2x28x8mm_Bearing_Inner__2x28x8mm_Bearing_Inner.obj" scale="1. 1. 1."/>
      </geometry>
    </visual>
    <visual>
      <origin xyz="0.02 0.19 -0.0065" rpy="-1.5707964 -0. 1.5707964"/>
      <geometry>
        <mesh filename="meshes/bearing28x8/forearm_bearing_12x28x8mm__2x28x8mm_Bearing_Outer__2x28x8mm_Bearing_Outer.obj" scale="1. 1. 1."/>
      </geometry>
    </visual>
    <visual>
      <origin xyz="0.02 0.19 -0.0065" rpy="-1.5707964 -0. 1.5707964"/>
      <geometry>
        <mesh filename="meshes/bearing28x8/forearm_bearing_12x28x8mm__2x28x8mm_Bearing_Cover__2x28x8mm_Bearing_Cover.obj" scale="1. 1. 1."/>
      </geometry>
    </visual>
    <visual>
      <origin xyz="-0. -0. -0.0085" rpy="1.5707964 -0. -0. "/>
      <geometry>
        <mesh filename="meshes/l_forearm_L_Forearm_L_Forearm.obj" scale="1. 1. 1."/>
      </geometry>
    </visual>
    <visual>
      <origin xyz="0.02 0.19 -0.0205" rpy="-1.5707964 -0. 1.5707964"/>
      <geometry>
        <mesh filename="meshes/bearing28x8/forearm_bearing_12x28x8mm__2x28x8mm_Bearing_Inner__2x28x8mm_Bearing_Inner.obj" scale="1. 1. 1."/>
      </geometry>
    </visual>
    <visual>
      <origin xyz="0.02 0.19 -0.0205" rpy="-1.5707964 -0. 1.5707964"/>
      <geometry>
        <mesh filename="meshes/bearing28x8/forearm_bearing_12x28x8mm__2x28x8mm_Bearing_Outer__2x28x8mm_Bearing_Outer.obj" scale="1. 1. 1."/>
      </geometry>
    </visual>
    <visual>
      <origin xyz="0.02 0.19 -0.0205" rpy="-1.5707964 -0. 1.5707964"/>
      <geometry>
        <mesh filename="meshes/bearing28x8/forearm_bearing_12x28x8mm__2x28x8mm_Bearing_Cover__2x28x8mm_Bearing_Cover.obj" scale="1. 1. 1."/>
      </geometry>
    </visual>
  </link>
  <link name="r_arm">
    <inertial>
      <origin xyz="-0.05956345 0.00725771 -0.01639736" rpy="0. 0. 0."/>
      <mass value="0.84232217"/>
      <inertia ixx="0.00083429" ixy="0.00071494" ixz="-0.00082221" iyy="0.00644595" iyz="0.00010286" izz="0.00664765"/>
    </inertial>
    <collision>
      <origin xyz="-0.059147 0.0160712 -0.0191464" rpy="1.293073 -1.5707964 0. "/>
      <geometry>
        <box size="0.0455878 0.1951695 0.0797575"/>
      </geometry>
    </collision>
    <visual>
      <origin xyz="-0.0000129 0. -0.021 " rpy="1.5707964 0. 0. "/>
      <geometry>
        <mesh filename="meshes/r_arm_R_Arm_R_Arm.obj" scale="1. 1. 1."/>
      </geometry>
    </visual>
    <visual>
      <origin xyz="0. 0. -0.041" rpy="1.5707964 0. 0. "/>
      <geometry>
        <mesh filename="meshes/r_arm_R_Arm_Top_Cover_R_Arm_Top_Cover.obj" scale="1. 1. 1."/>
      </geometry>
    </visual>
    <visual>
      <origin xyz="0. 0. -0.0395" rpy="1.5707964 1.5707964 0. "/>
      <geometry>
        <mesh filename="meshes/ak60_6/body_ak60_6.obj" scale="1. 1. 1."/>
      </geometry>
    </visual>
    <visual>
      <origin xyz="0. 0. -0.01715" rpy="0. 0. -1.5707964"/>
      <geometry>
        <mesh filename="meshes/ak60_6/cover_ak60_6.obj" scale="1. 1. 1."/>
      </geometry>
    </visual>
    <visual>
      <origin xyz="-0.119007 0.0154056 -0.0395 " rpy="1.8325957 1.5707964 0. "/>
      <geometry>
        <mesh filename="meshes/ak60_6/body_ak60_6.obj" scale="1. 1. 1."/>
      </geometry>
    </visual>
    <visual>
      <origin xyz="-0.119007 0.0154056 -0.01715 " rpy="0. 0. -1.8325957"/>
      <geometry>
        <mesh filename="meshes/ak60_6/cover_ak60_6.obj" scale="1. 1. 1."/>
      </geometry>
    </visual>
  </link>
  <link name="r_foot">
    <inertial>
      <origin xyz="0.01329791 0.02231079 -0.01100245" rpy="0. 0. 0."/>
      <mass value="0.04745"/>
      <inertia ixx="0.0000866" ixy="-0.00001806" ixz="0.00000692" iyy="0.00002911" iyz="0.00001164" izz="0.00008895"/>
    </inertial>
    <collision>
      <origin xyz="0.0273844 0.0133017 -0.0111505" rpy="-2.8217785 1.5707964 0. "/>
      <geometry>
        <box size="0.036 0.1227169 0.0099255"/>
      </geometry>
    </collision>
    <visual>
      <origin xyz="0.029 0. -0.029" rpy="1.5707964 -1.5707964 0. "/>
      <geometry>
        <mesh filename="meshes/r_foot_Foot_New_2_Foot_New_2.obj" scale="1. 1. 1."/>
      </geometry>
    </visual>
    <visual>
      <origin xyz="0. 0.029 0.007" rpy="-3.1415927 1.5707963 0. "/>
      <geometry>
        <mesh filename="meshes/r_foot_Foot_New_1_Foot_New_1.obj" scale="1. 1. 1."/>
      </geometry>
    </visual>
  </link>
  <link name="r_forearm">
    <inertial>
      <origin xyz="0.00798708 0.10925043 0.01694463" rpy="0. 0. 0."/>
      <mass value="0.11351157"/>
      <inertia ixx="0.0020294" ixy="-0.00016888" ixz="-0.00001588" iyy="0.00007282" iyz="-0.00021613" izz="0.00202792"/>
    </inertial>
    <collision>
      <origin xyz="-0.0031991 0.0772309 0.01765 " rpy="1.5785186 -1.5707963 0. "/>
      <geometry>
        <box size="0.0174227 0.0354954 0.186567 "/>
      </geometry>
    </collision>
    <visual>
      <origin xyz="0.02 0.19 0.0285" rpy="-1.5707964 -0. 1.5707964"/>
      <geometry>
        <mesh filename="meshes/bearing28x8/forearm_bearing_12x28x8mm__2x28x8mm_Bearing_Inner__2x28x8mm_Bearing_Inner.obj" scale="1. 1. 1."/>
      </geometry>
    </visual>
    <visual>
      <origin xyz="0.02 0.19 0.0285" rpy="-1.5707964 -0. 1.5707964"/>
      <geometry>
        <mesh filename="meshes/bearing28x8/forearm_bearing_12x28x8mm__2x28x8mm_Bearing_Outer__2x28x8mm_Bearing_Outer.obj" scale="1. 1. 1."/>
      </geometry>
    </visual>
    <visual>
      <origin xyz="0.02 0.19 0.0285" rpy="-1.5707964 -0. 1.5707964"/>
      <geometry>
        <mesh filename="meshes/bearing28x8/forearm_bearing_12x28x8mm__2x28x8mm_Bearing_Cover__2x28x8mm_Bearing_Cover.obj" scale="1. 1. 1."/>
      </geometry>
    </visual>
    <visual>
      <origin xyz="-0. -0. 0.0085" rpy="-1.5707964 -0. -0. "/>
      <geometry>
        <mesh filename="meshes/r_forearm_R_Forearm_R_Forearm.obj" scale="1. 1. 1."/>
      </geometry>
    </visual>
    <visual>
      <origin xyz="0.02 0.19 0.0145" rpy="-1.5707964 -0. 1.5707964"/>
      <geometry>
        <mesh filename="meshes/bearing28x8/forearm_bearing_12x28x8mm__2x28x8mm_Bearing_Inner__2x28x8mm_Bearing_Inner.obj" scale="1. 1. 1."/>
      </geometry>
    </visual>
    <visual>
      <origin xyz="0.02 0.19 0.0145" rpy="-1.5707964 -0. 1.5707964"/>
      <geometry>
        <mesh filename="meshes/bearing28x8/forearm_bearing_12x28x8mm__2x28x8mm_Bearing_Outer__2x28x8mm_Bearing_Outer.obj" scale="1. 1. 1."/>
      </geometry>
    </visual>
    <visual>
      <origin xyz="0.02 0.19 0.0145" rpy="-1.5707964 -0. 1.5707964"/>
      <geometry>
        <mesh filename="meshes/bearing28x8/forearm_bearing_12x28x8mm__2x28x8mm_Bearing_Cover__2x28x8mm_Bearing_Cover.obj" scale="1. 1. 1."/>
      </geometry>
    </visual>
  </link>
</robot>
